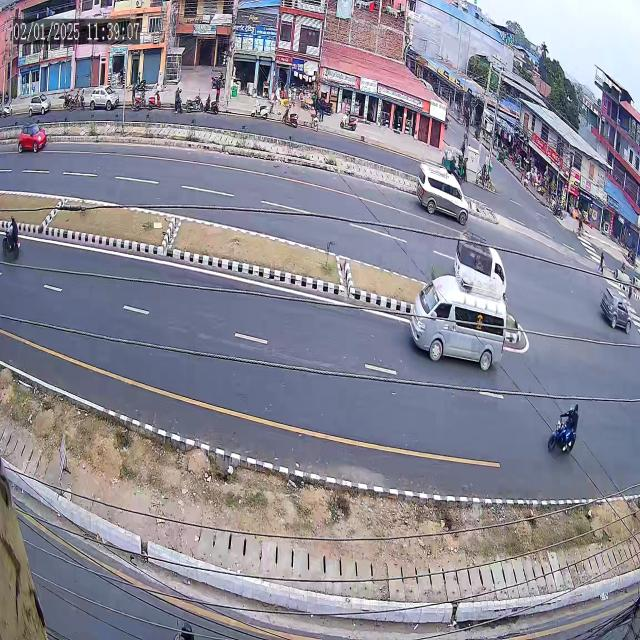car: (597, 281, 639, 341), (15, 117, 58, 161)
motorcycle: (539, 384, 585, 461), (0, 210, 29, 265)
van: (448, 222, 511, 304)
